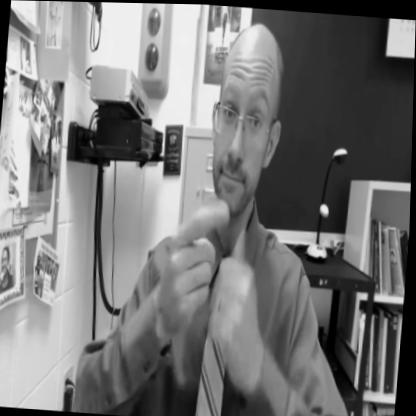HowAreYou: (123, 13, 330, 416)
